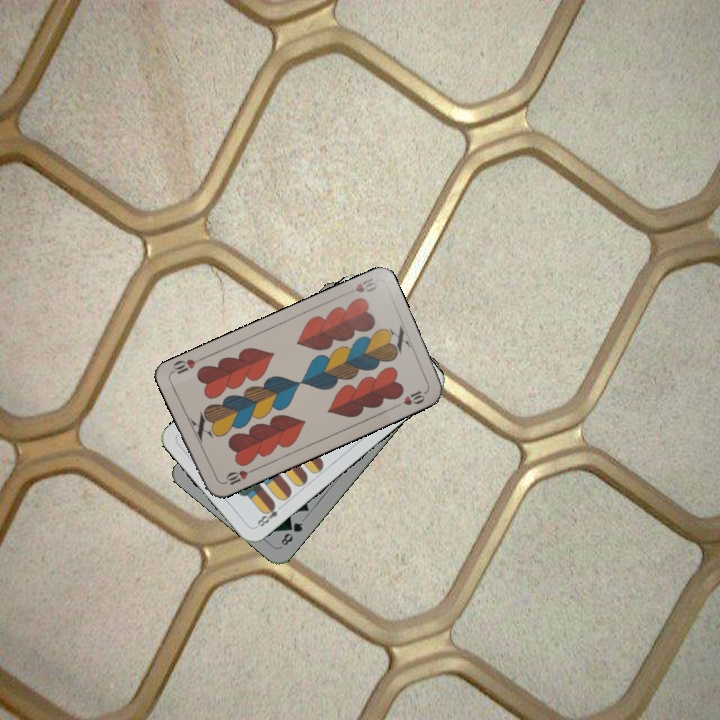E8: (252, 499, 286, 530)
G8: (277, 518, 305, 548)
H10: (340, 273, 380, 298), (218, 465, 257, 488)
